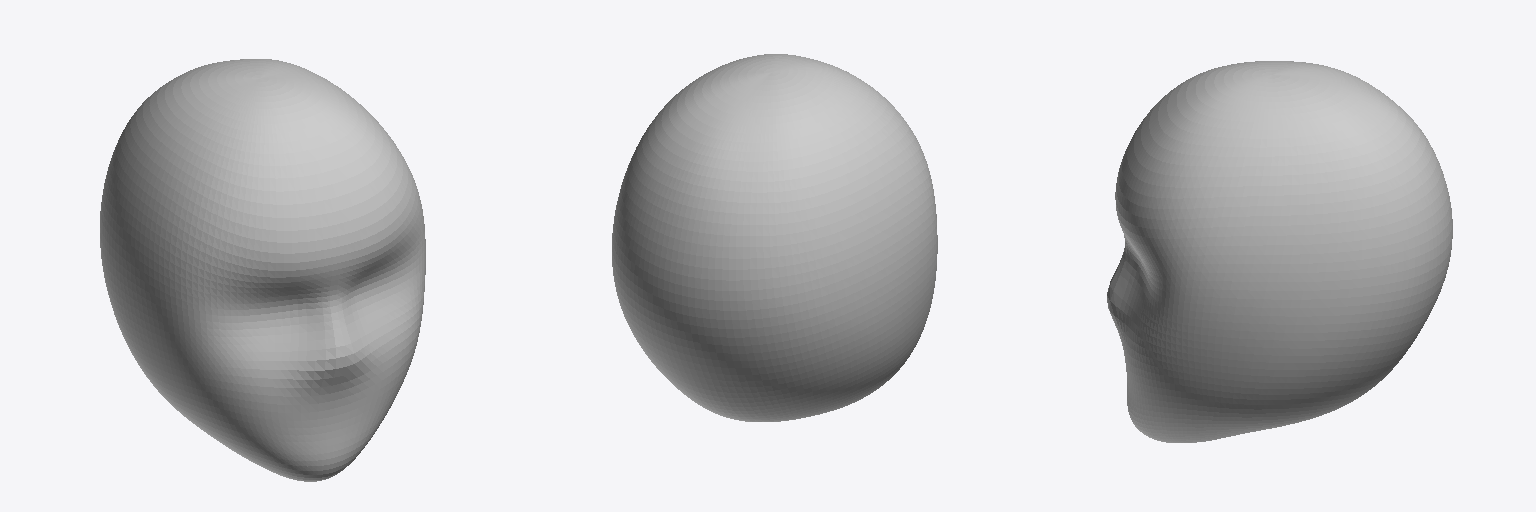
The model's file is BBHExportobj.obj.
The picture shows the model from 3 angles: view 1: azimuth 30°, elevation 25°; view 2: azimuth 150°, elevation 25°; view 3: azimuth 270°, elevation 25°; orthographic projection.
Parts seen in each view (by area): view 1: Group20; view 2: Group20; view 3: Group20.
Boxes of the visible parts, x1,y1,x2,y2 form: Group20: [100, 59, 425, 481]; Group20: [612, 54, 937, 421]; Group20: [1107, 61, 1452, 442].
Bounding box in the file's own units: 0.1955 × 0.2531 × 0.2192.